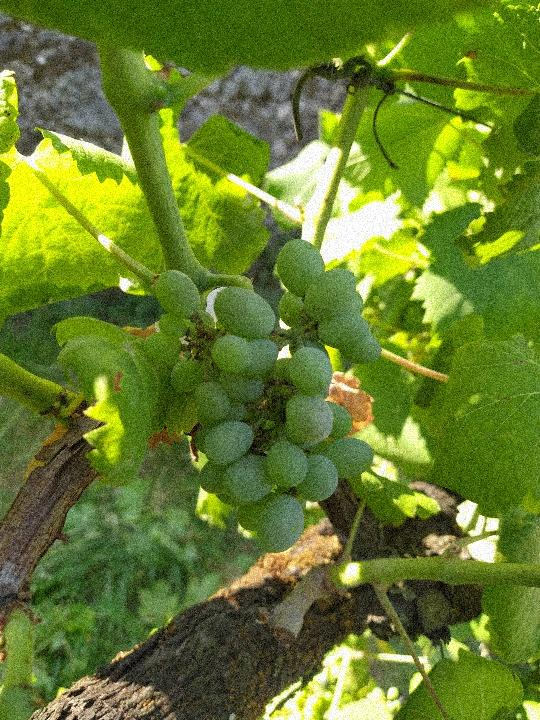grape: (137, 238, 377, 557)
